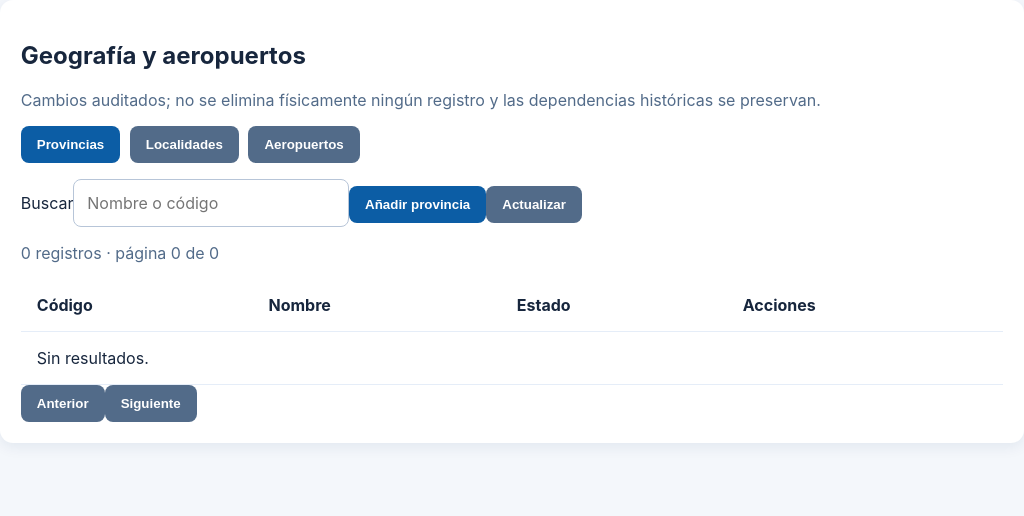
Test: una reactivación rechazada por jerarquía inactiva informa el motivo y mantiene el registro inactivo
Click the button "Aeropuertos".
click(304, 144)  # box [248,126,360,163]
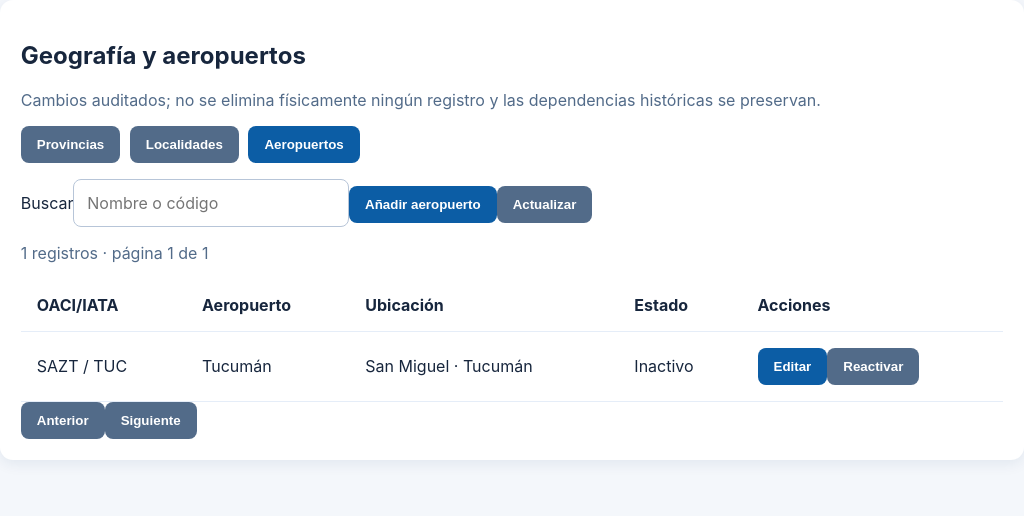
Click the button "Reactivar".
click(873, 366)  # box [827,348,919,385]
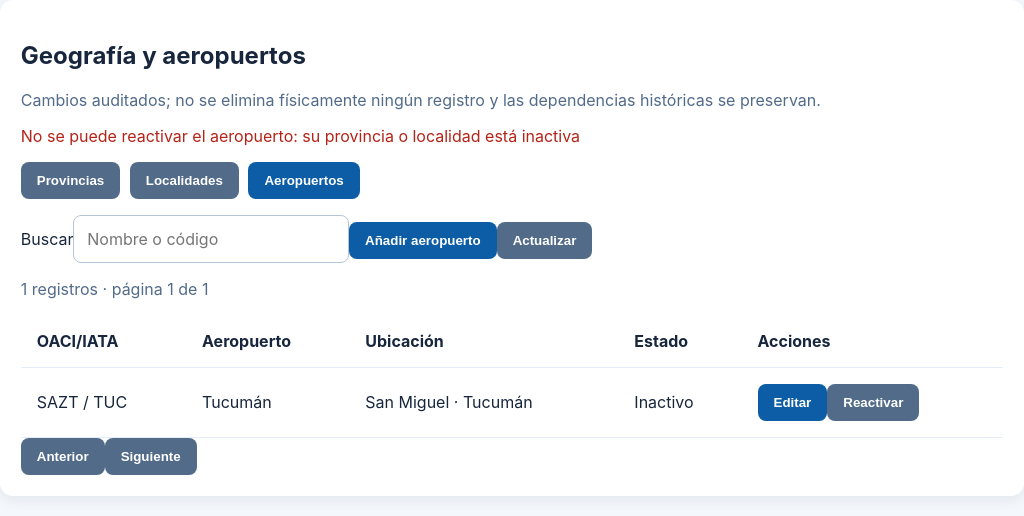
Now the text "Inactivo" is shown, box [618,367,742,438]
Now the message shows "provincia o localidad está inactiva", box [21,126,580,146]
